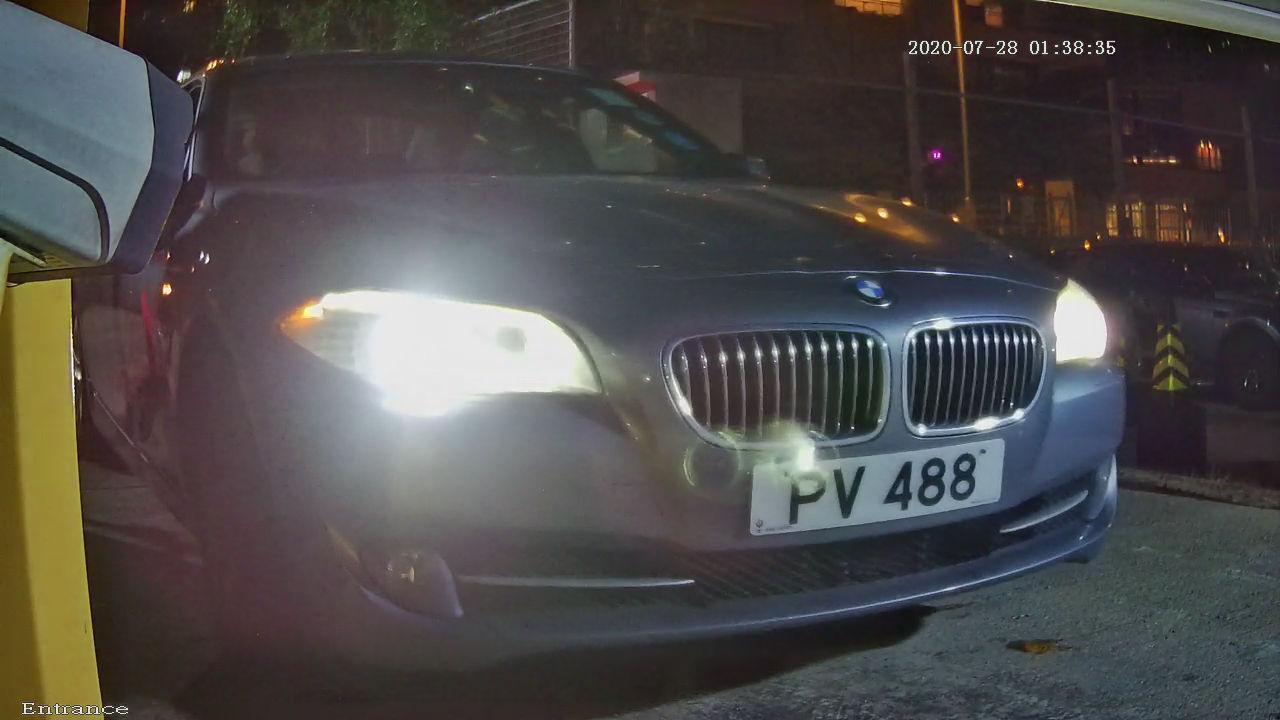privatecar: (126, 10, 1178, 692)
